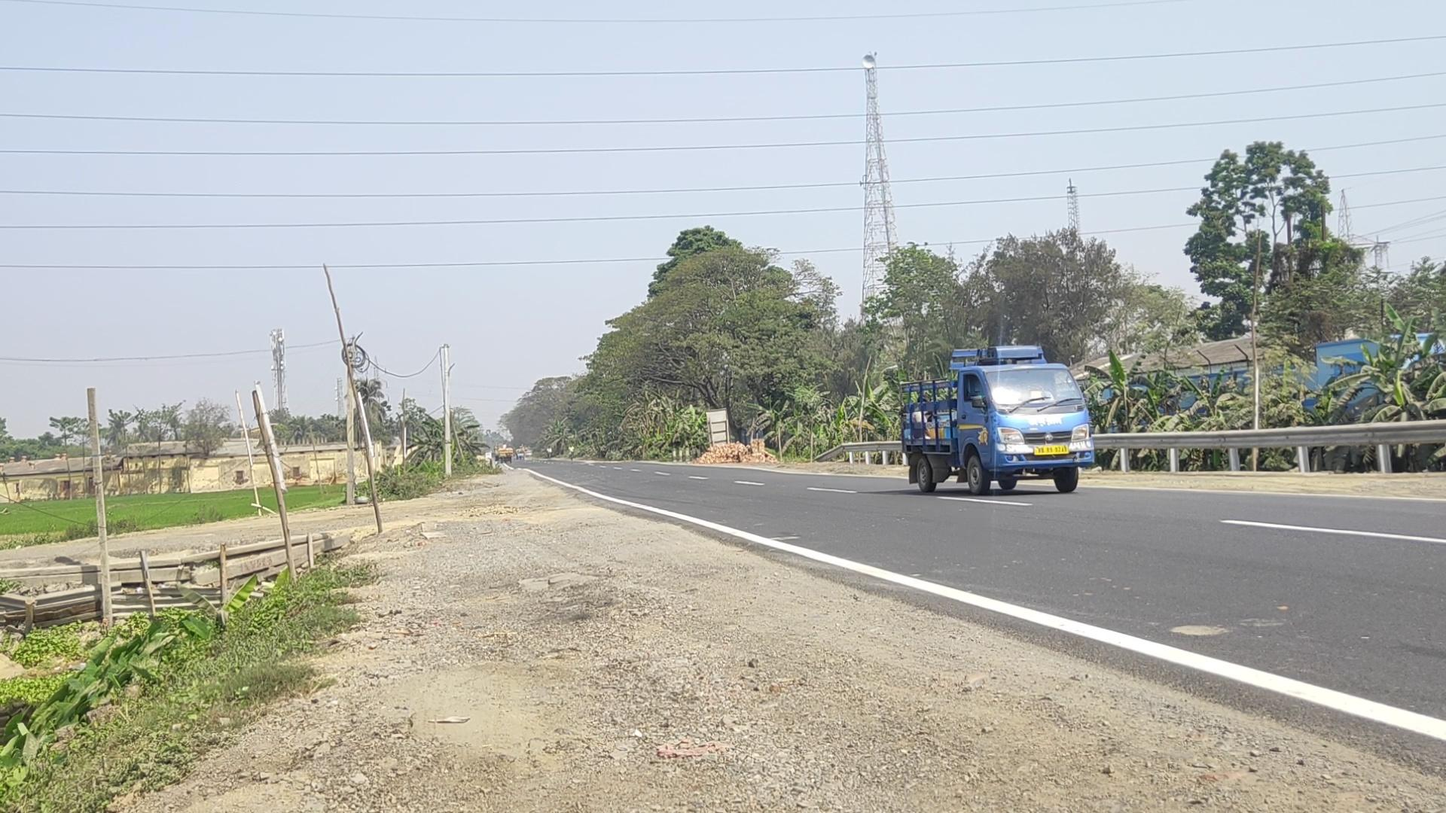van: (899, 344, 1094, 496)
